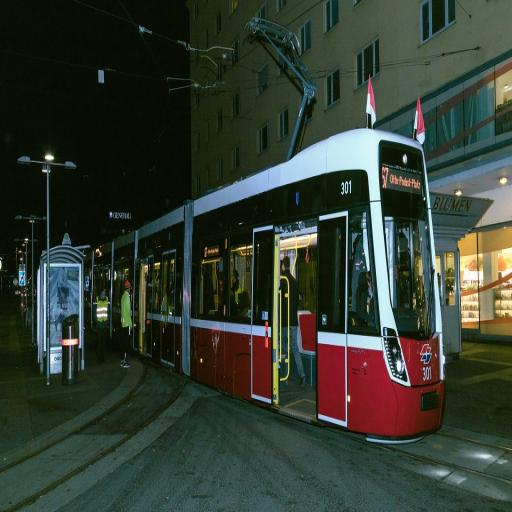Flexity: (94, 122, 446, 436)
